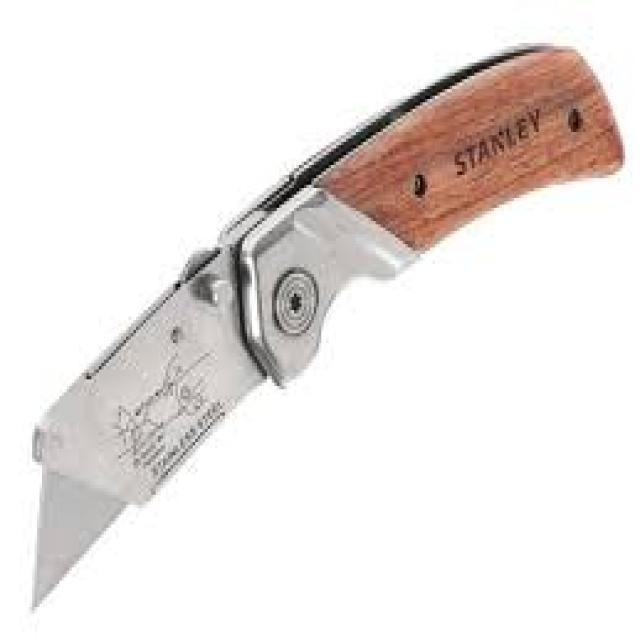knife: (17, 29, 633, 615)
